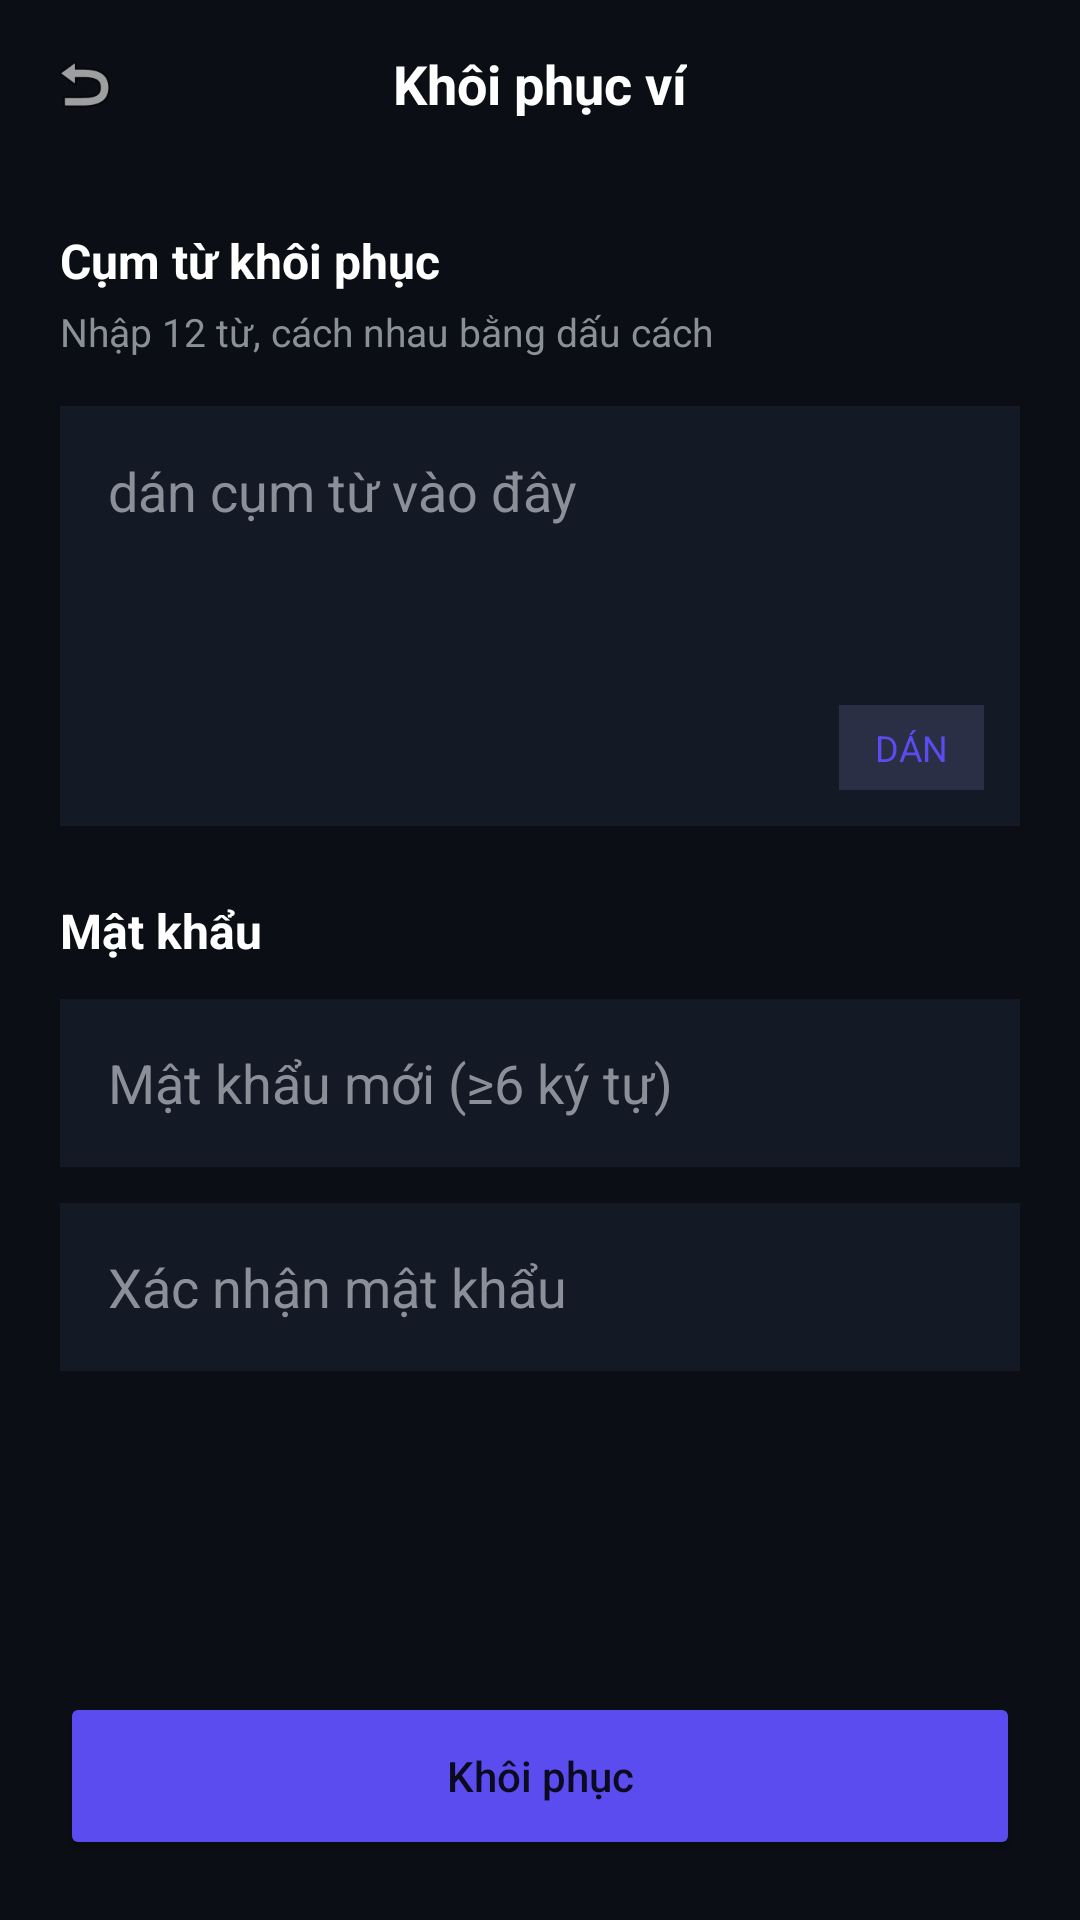

Icons on this 1080 x 1920 Android screen, each with its box as [x1, y1, x2, y2]:
revert: [61, 63, 109, 106]
